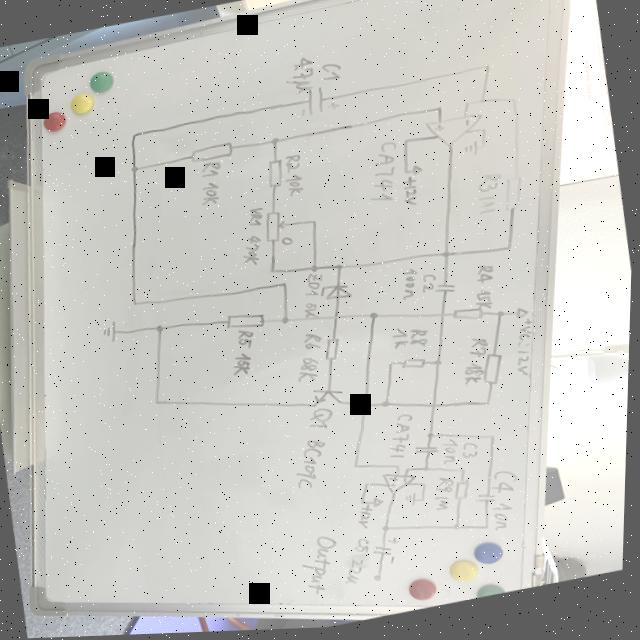capacitor: (297, 84, 342, 120), (374, 539, 408, 570), (415, 444, 444, 461), (477, 493, 501, 508), (436, 283, 460, 297)
crossover: (432, 403, 443, 413), (332, 315, 343, 323), (363, 402, 372, 410), (440, 314, 449, 321)
diode: (320, 282, 358, 306)
ground: (102, 319, 123, 345), (463, 142, 482, 160), (407, 493, 422, 510)
junction: (130, 130, 142, 141), (270, 137, 282, 147), (282, 317, 293, 326), (485, 401, 496, 410), (428, 433, 439, 442), (383, 401, 394, 410), (443, 252, 454, 261), (371, 313, 382, 322), (157, 324, 167, 333), (311, 265, 321, 274), (131, 165, 141, 174), (497, 313, 508, 320), (336, 265, 347, 272), (437, 361, 446, 369), (282, 282, 291, 290), (403, 139, 412, 147), (156, 398, 165, 406), (511, 99, 520, 107), (483, 66, 493, 73), (271, 269, 281, 276), (437, 107, 446, 114), (385, 527, 394, 534), (507, 247, 516, 254), (456, 526, 465, 533), (355, 464, 364, 471), (425, 467, 434, 474), (491, 436, 500, 443), (480, 100, 489, 107), (486, 526, 495, 533), (464, 102, 473, 109), (389, 362, 398, 369), (132, 300, 141, 307), (362, 501, 371, 508), (404, 170, 411, 178), (461, 470, 470, 476), (482, 146, 489, 153), (312, 220, 320, 226), (366, 484, 374, 490), (481, 130, 489, 136), (422, 499, 430, 505), (399, 466, 405, 472), (424, 484, 431, 489), (410, 469, 415, 474)
resistor: (227, 308, 269, 335), (500, 177, 529, 216), (190, 141, 237, 165), (480, 354, 510, 390), (262, 210, 291, 246), (265, 158, 288, 190), (453, 307, 487, 327), (323, 337, 347, 365), (454, 480, 476, 505), (403, 357, 431, 374)
source: (516, 309, 533, 323), (412, 165, 426, 179), (375, 496, 388, 511)
terminal: (376, 575, 387, 585)
text: (300, 534, 349, 599), (362, 141, 408, 208), (291, 437, 339, 496), (387, 413, 423, 462), (283, 56, 318, 98), (491, 470, 524, 500), (493, 502, 521, 534), (241, 234, 267, 268), (297, 354, 326, 384), (515, 319, 539, 353), (400, 269, 424, 303), (345, 558, 371, 588), (402, 177, 424, 210), (310, 408, 339, 433), (304, 272, 328, 302), (476, 174, 507, 197), (463, 363, 489, 390), (200, 179, 225, 207), (442, 440, 465, 468), (233, 352, 258, 377), (469, 337, 493, 363), (319, 61, 345, 84), (284, 173, 307, 199), (475, 264, 499, 288), (436, 478, 460, 502), (410, 328, 434, 352), (475, 290, 498, 315), (236, 329, 260, 352), (303, 331, 327, 354), (392, 328, 414, 353), (359, 505, 378, 532), (477, 196, 500, 218), (518, 353, 536, 381), (200, 160, 225, 180), (284, 154, 306, 176), (247, 207, 267, 231), (421, 274, 441, 296), (356, 537, 376, 557), (304, 301, 322, 321), (464, 444, 482, 462), (282, 237, 297, 248), (436, 126, 449, 134), (465, 120, 474, 129), (392, 478, 402, 485), (393, 485, 400, 490), (406, 479, 411, 485)
transistor: (309, 385, 347, 415)
